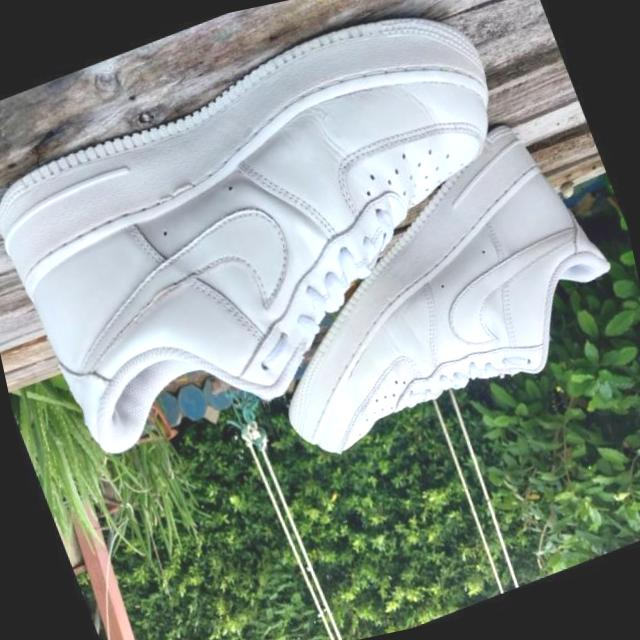nike_original_airforce: (0, 0, 597, 481), (203, 102, 640, 480)
